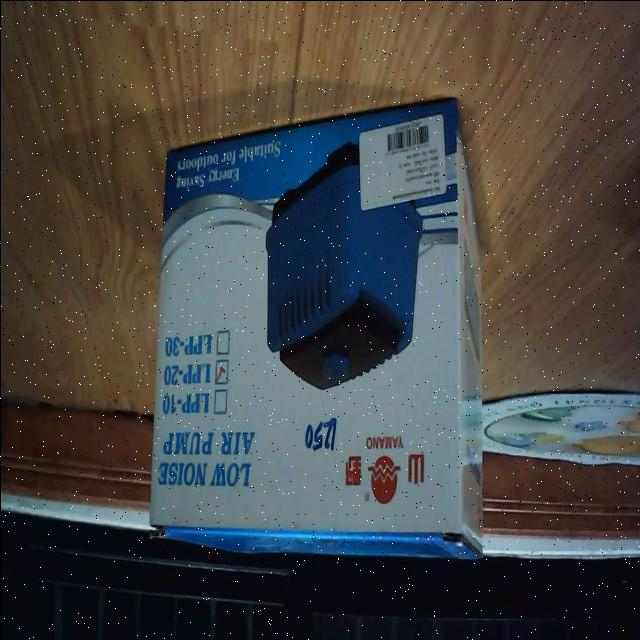YAMANO_LPP_20: (143, 88, 489, 586)
